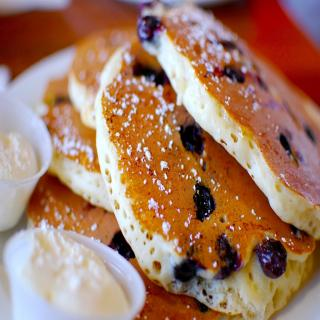Pancake: (86, 22, 315, 314)
